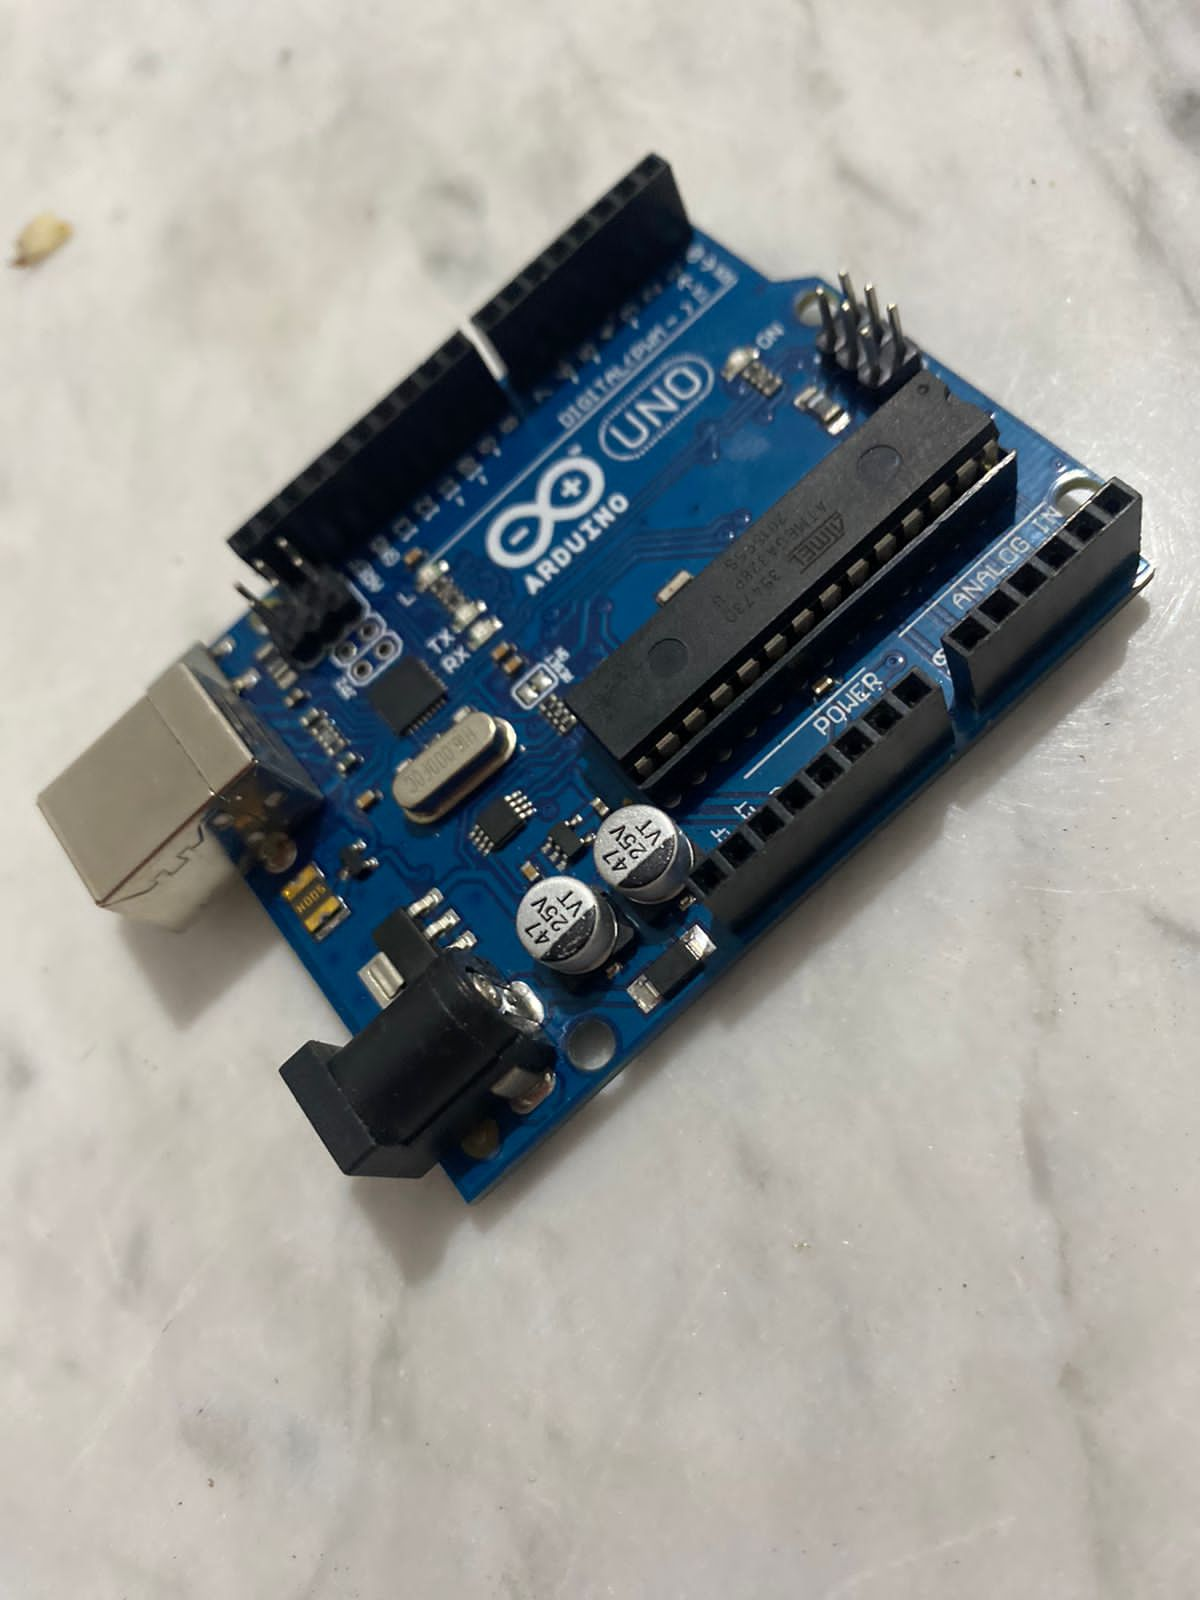arduino-uno: (29, 147, 1152, 1193)
